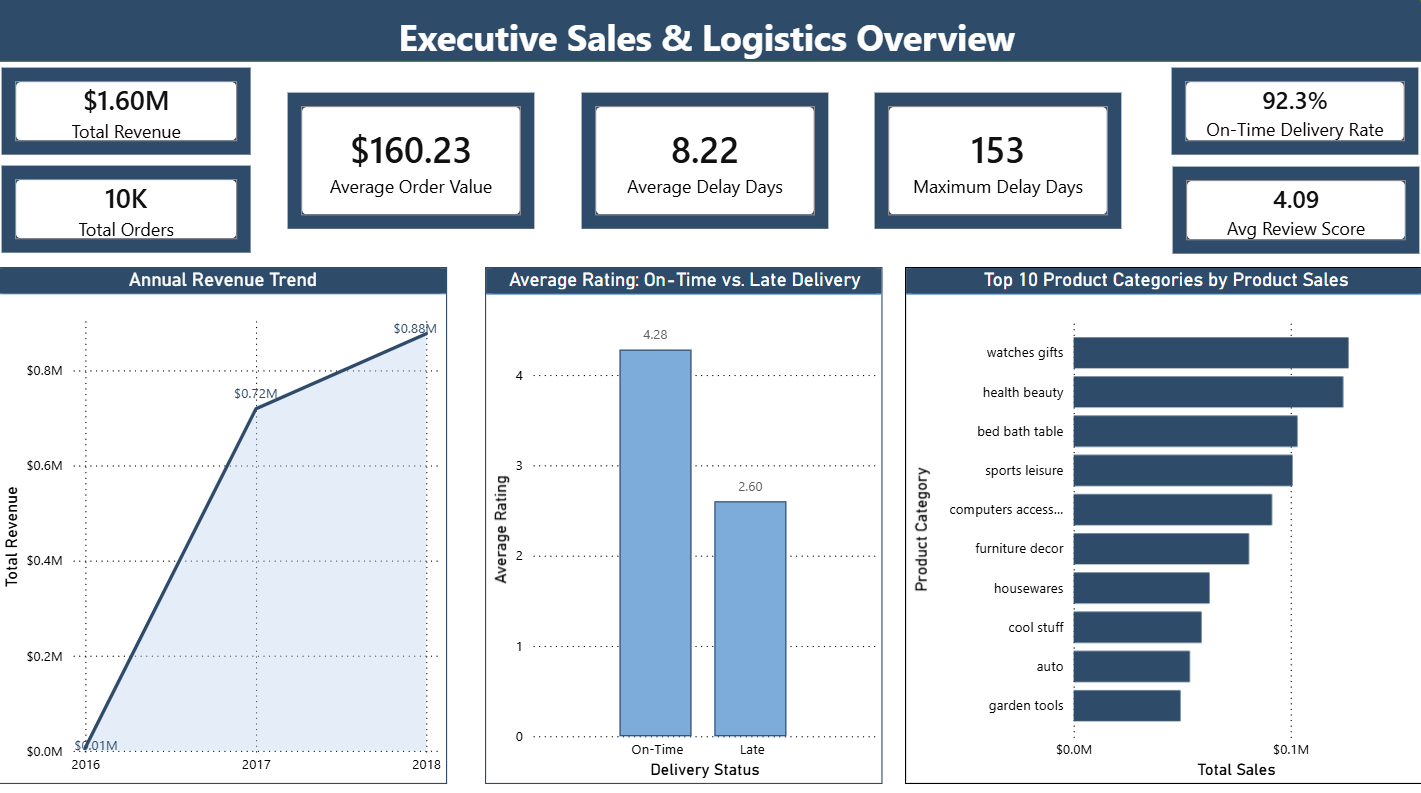

The dashboard page shown, as its layout file describes it:
{"tool":"powerbi","page":{"name":"Executive Performance","canvas":[1280,720],"ordinal":0},"visuals":[{"type":"cardVisual","fields":{"Data":["olist_portfolio category_translation.Total Revenue"]},"box":[0,61.8,233,88],"z":0},{"type":"cardVisual","fields":{"Data":["olist_portfolio category_translation.Total Orders"]},"box":[0,149.6,233,88],"z":1000},{"type":"cardVisual","fields":{"Data":["olist_portfolio category_translation.Average Order Value"]},"box":[256.1,84.2,231,132],"z":2000},{"type":"cardVisual","fields":{"Data":["olist_portfolio category_translation.On-Time Delivery %"]},"box":[1047.8,61.8,231,88],"z":3000},{"type":"cardVisual","fields":{"Data":["olist_portfolio reviews.Avg Review Score"]},"box":[1048.7,150.4,231,88],"z":4000},{"type":"lineChart","title":"Annual Revenue Trend","fields":{"Category":["olist_portfolio orders.order_purchase_timestamp.Variation.Date Hierarchy.Year","olist_portfolio orders.order_purchase_timestamp.Variation.Date Hierarchy.Quarter","olist_portfolio orders.order_purchase_timestamp.Variation.Date Hierarchy.Month","olist_portfolio orders.order_purchase_timestamp.Variation.Date Hierarchy.Day"],"Y":["olist_portfolio category_translation.Total Revenue"]},"box":[0,245.4,404.3,463.2],"z":5000},{"type":"clusteredBarChart","title":"Top 10 Product Categories by Product Sales","fields":{"Category":["olist_portfolio category_translation.product_category_name_english"],"Y":["olist_portfolio category_translation.Total Sales"]},"box":[814,245.4,465.6,463.2],"z":6000},{"type":"columnChart","title":"Average Rating: On-Time vs. Late Delivery","fields":{"Category":["olist_portfolio orders.Delivery Status"],"Y":["Avg(olist_portfolio reviews.review_score)"]},"box":[437.9,245.4,355.9,463.2],"z":7000},{"type":"shape","box":[0,0,1278.9,61.7],"z":8000},{"type":"textbox","box":[355.7,11.4,568.6,79.9],"z":9000},{"type":"cardVisual","fields":{"Data":["olist_portfolio category_translation.Average Delay Days"]},"box":[519,84.2,231,132],"z":10000},{"type":"cardVisual","fields":{"Data":["olist_portfolio category_translation.Maximum Delay Days"]},"box":[781.8,84.2,231,132],"z":11000}]}

Visuals, with their boxes in screenshot pixels (x1, y1, x2, y2), scaled from the page's 1280x720 canvas onto the 1421x793 screenshot:
cardVisual - olist_portfolio category_translation.Total Revenue: bbox=(0, 68, 259, 165)
cardVisual - olist_portfolio category_translation.Total Orders: bbox=(0, 165, 259, 262)
cardVisual - olist_portfolio category_translation.Average Order Value: bbox=(284, 93, 541, 238)
cardVisual - olist_portfolio category_translation.On-Time Delivery %: bbox=(1163, 68, 1420, 165)
cardVisual - olist_portfolio reviews.Avg Review Score: bbox=(1164, 166, 1420, 263)
"Annual Revenue Trend" lineChart: bbox=(0, 270, 449, 780)
"Top 10 Product Categories by Product Sales" clusteredBarChart: bbox=(904, 270, 1420, 780)
"Average Rating: On-Time vs. Late Delivery" columnChart: bbox=(486, 270, 881, 780)
shape: bbox=(0, 0, 1420, 68)
textbox: bbox=(395, 13, 1026, 101)
cardVisual - olist_portfolio category_translation.Average Delay Days: bbox=(576, 93, 833, 238)
cardVisual - olist_portfolio category_translation.Maximum Delay Days: bbox=(868, 93, 1124, 238)
